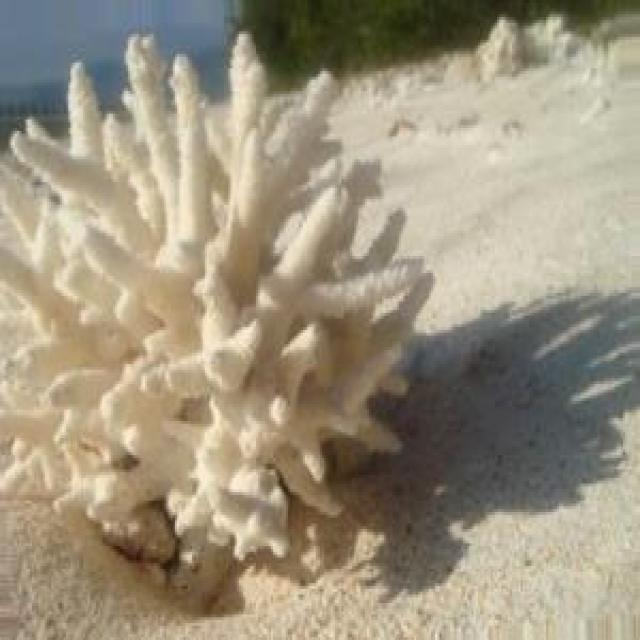bleached coral: (0, 33, 434, 608)
